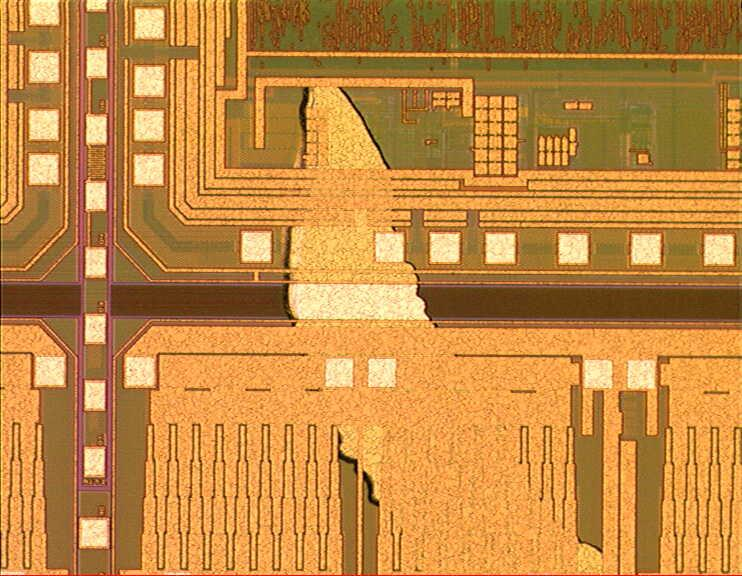BLOCK ETCH: (277, 71, 628, 576)
